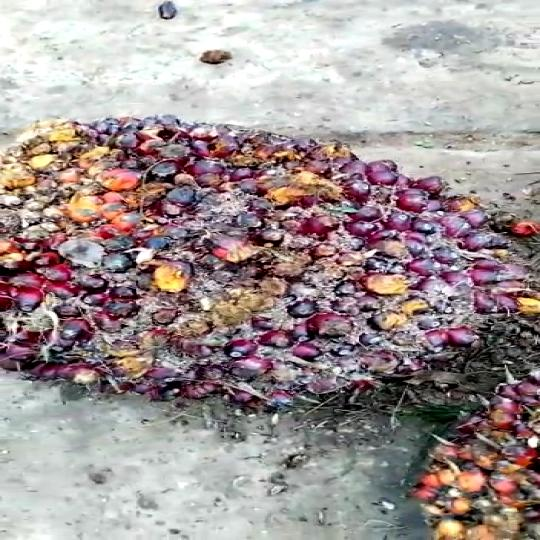kurang masak: (0, 105, 520, 439)
